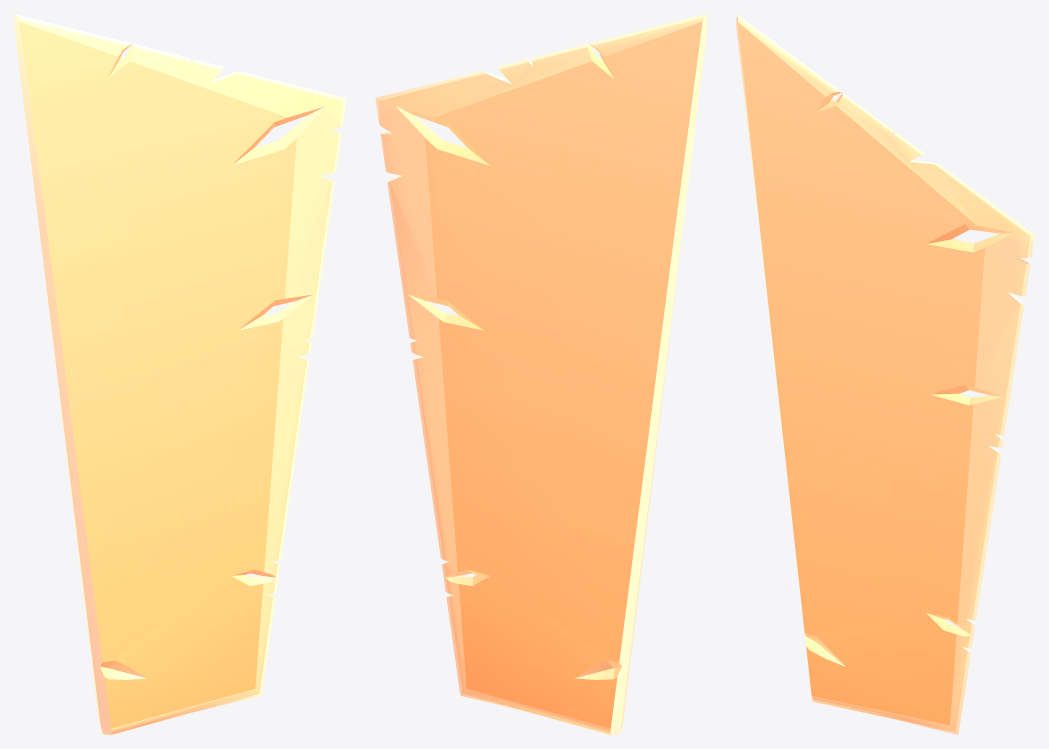
Rendered from wood_blade_scratched_066.glb.
3 views of the same model, side by side, from view 1: azimuth 30°, elevation 25°; view 2: azimuth 150°, elevation 25°; view 3: azimuth 330°, elevation 25° (orthographic). The views are drawn at different scales.
Parts seen in each view (by area): view 1: wood_blade_scratched.066; view 2: wood_blade_scratched.066; view 3: wood_blade_scratched.066.
Part boxes in pixels (x1,y1,x2,y2): wood_blade_scratched.066: [14, 14, 346, 734]; wood_blade_scratched.066: [375, 14, 707, 734]; wood_blade_scratched.066: [736, 14, 1034, 734].
Size of the model in its own units: 5.55 by 11.85 by 0.374.
1 material, 1 textured.
